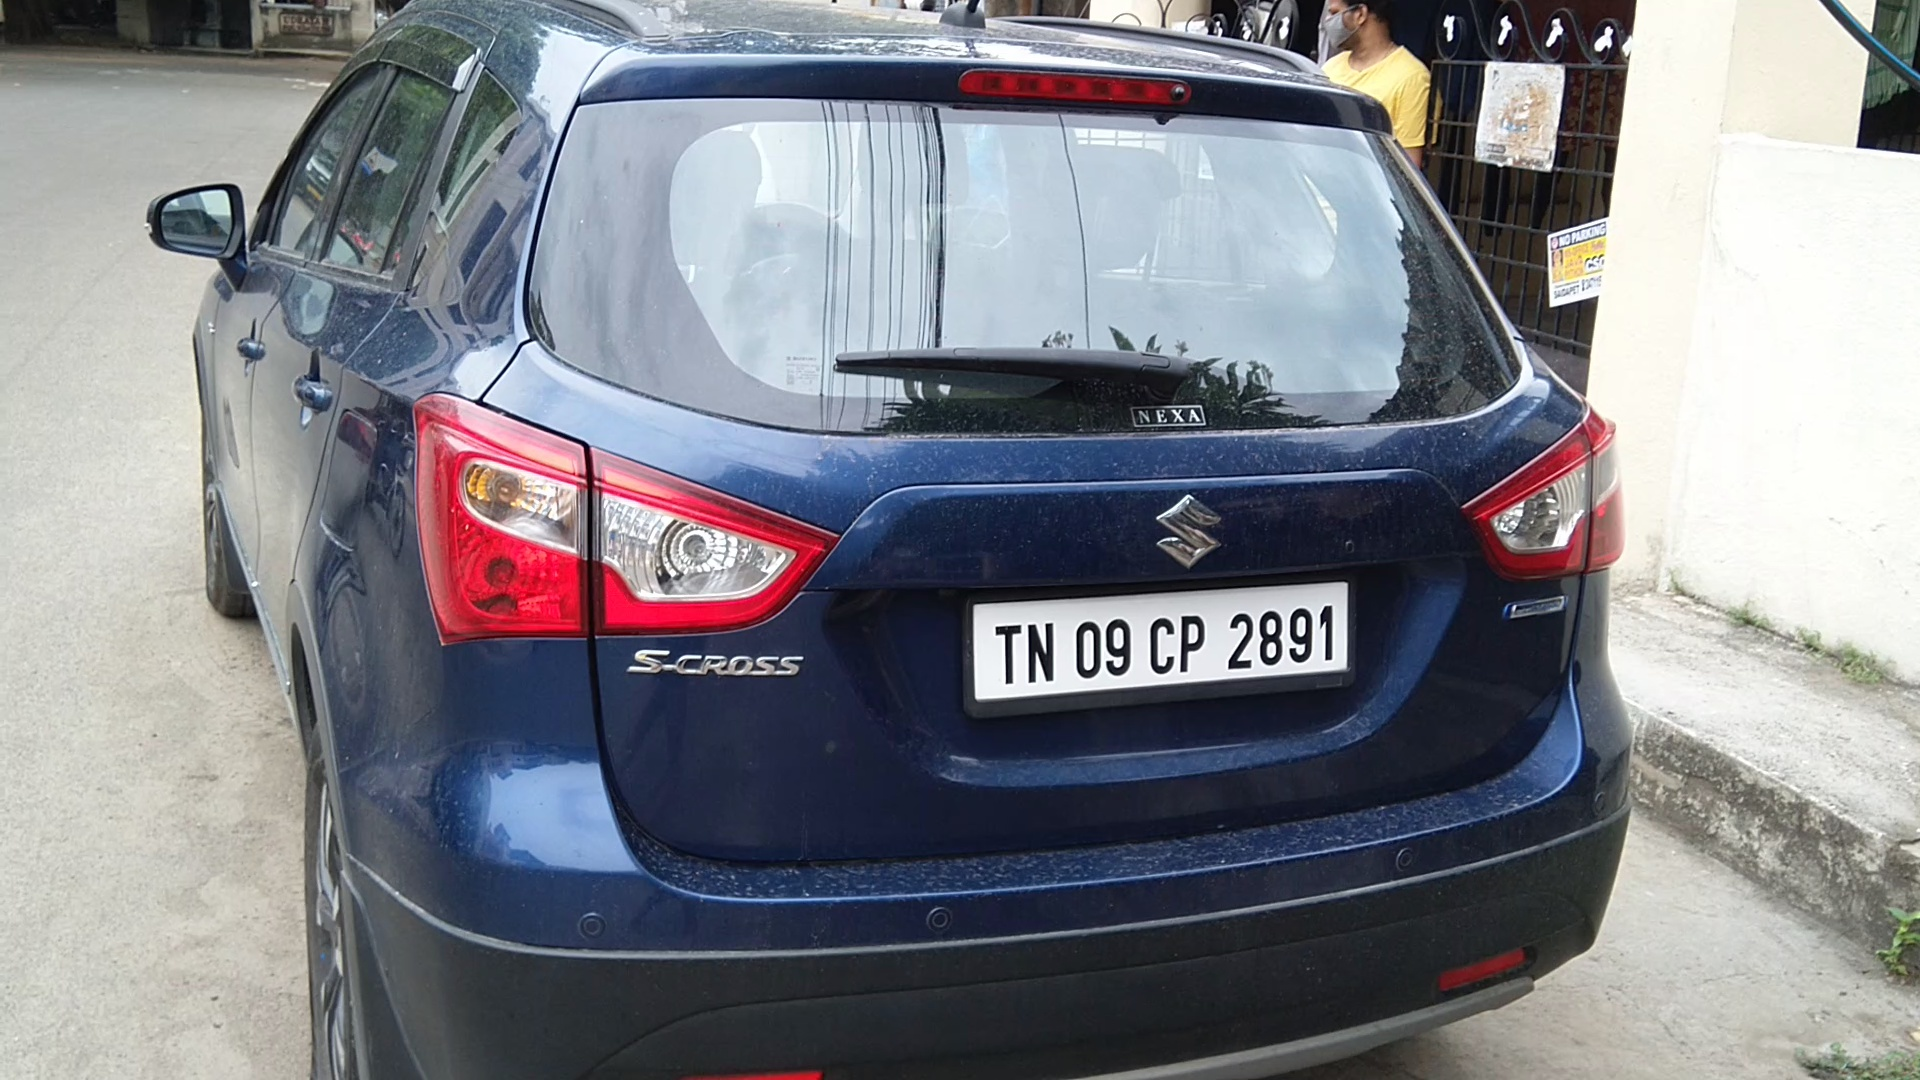rear_camera: (1158, 69, 1197, 111)
shvs: (1491, 584, 1582, 646)
